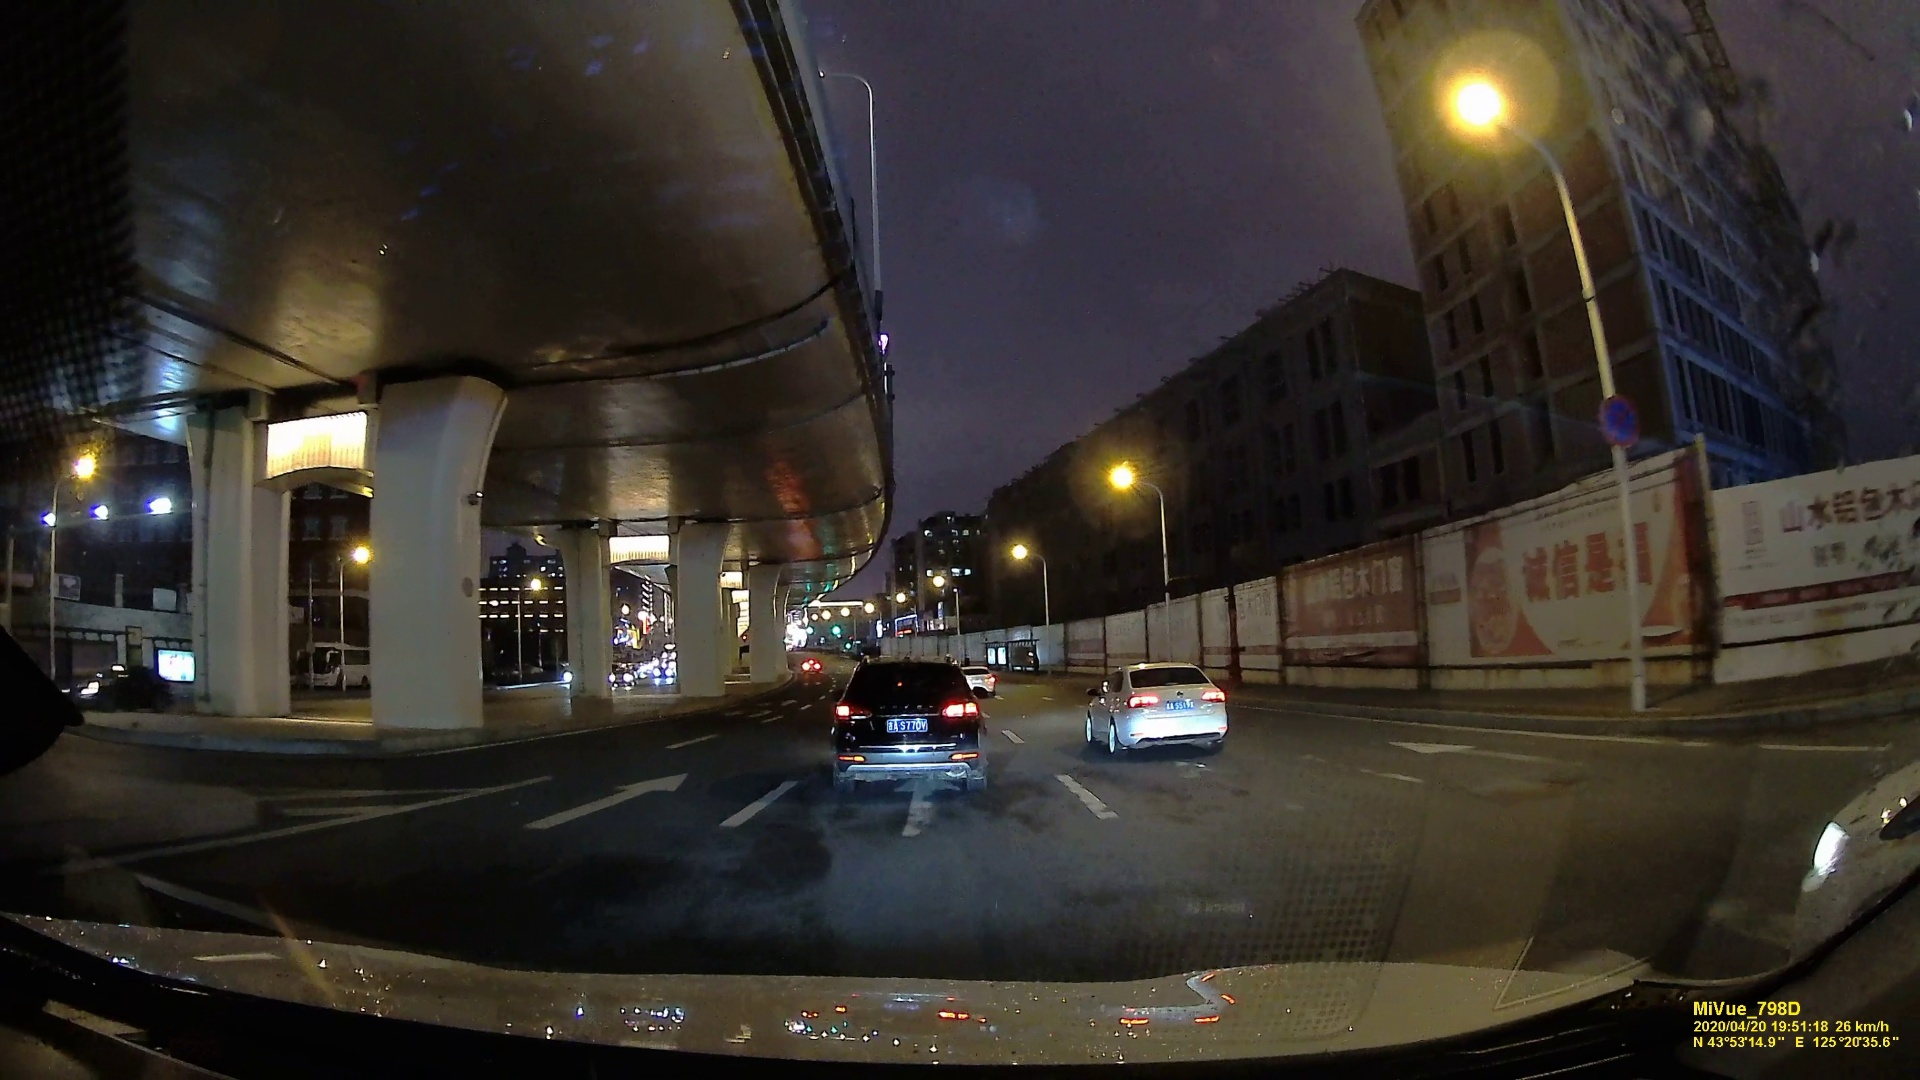traffic_sign: (1605, 386, 1648, 448)
vehicle: (828, 669, 980, 802), (1077, 659, 1226, 752), (65, 666, 170, 700), (800, 659, 824, 673)
